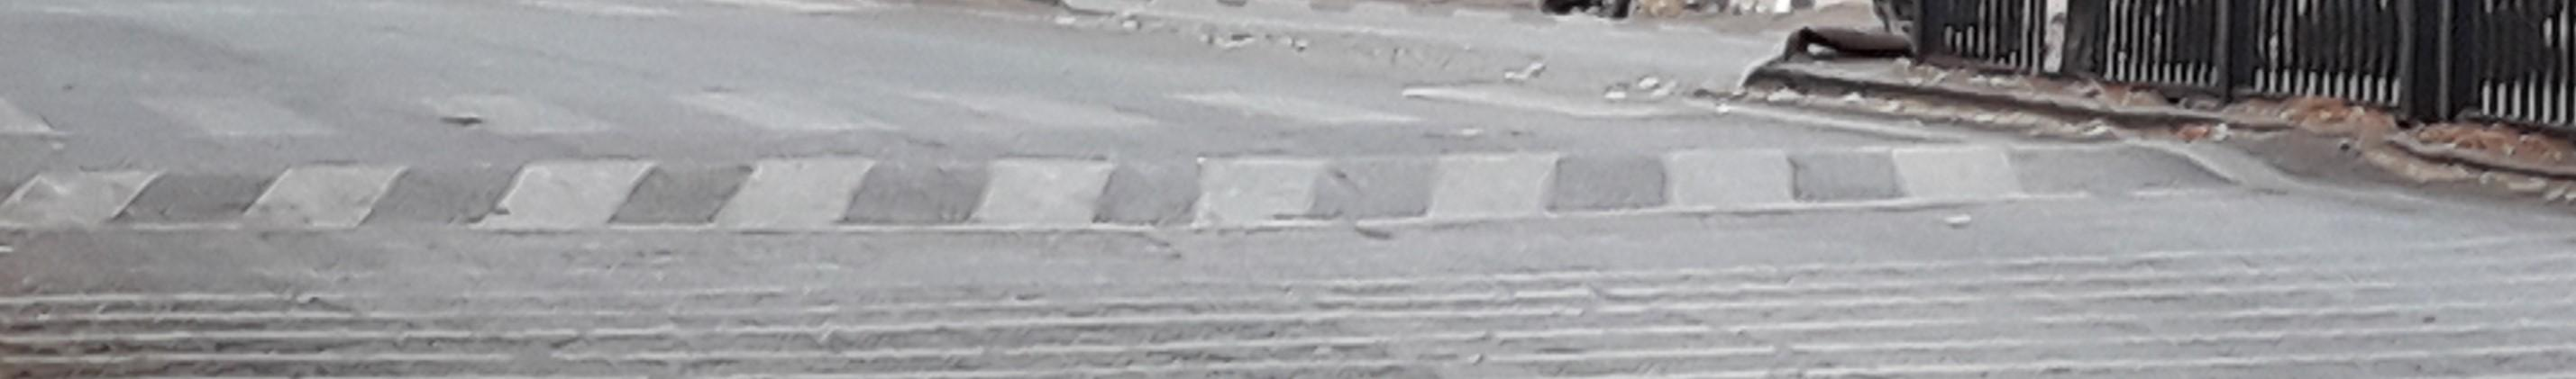speed-bump: (8, 124, 2421, 235)
